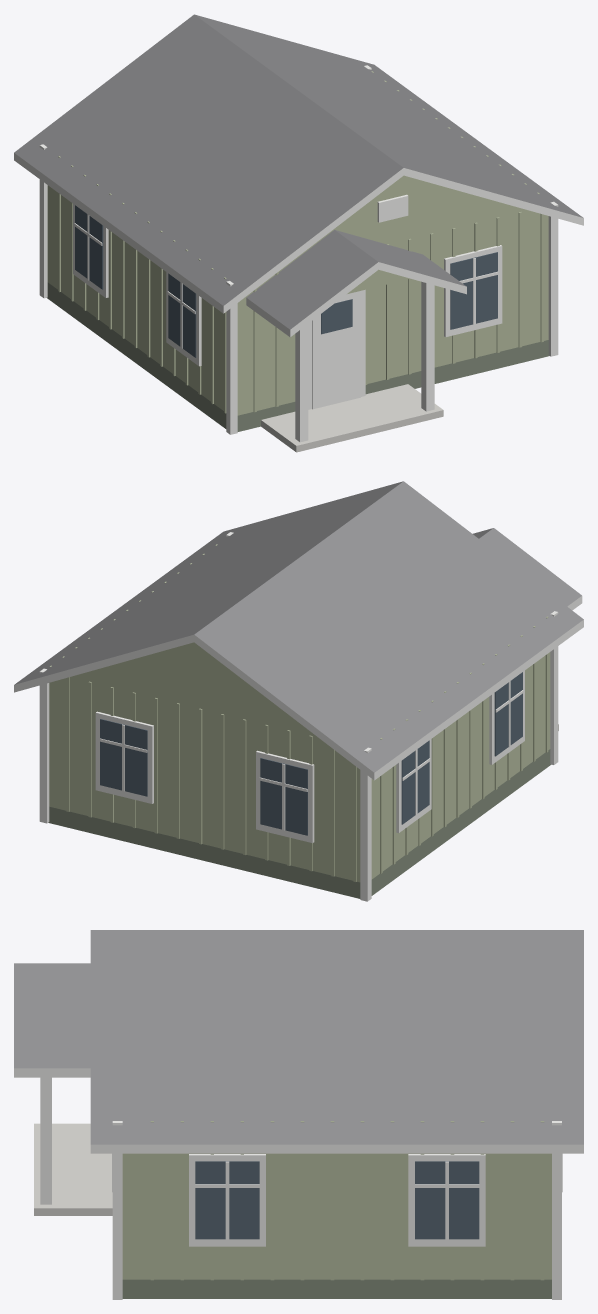
File: ripon-sage.glb
3 renders of one model, top to bottom at view 1: azimuth 30°, elevation 25°; view 2: azimuth 150°, elevation 25°; view 3: azimuth 270°, elevation 25°, orthographic. The views are drawn at different scales.
Visible parts, largest first — view 1: The Ripon (sage); view 2: The Ripon (sage); view 3: The Ripon (sage).
Part boxes in pixels (left/top/right/bottom): The Ripon (sage): left=14, top=14, right=583, bottom=452; The Ripon (sage): left=14, top=481, right=583, bottom=901; The Ripon (sage): left=14, top=930, right=583, bottom=1299.
Size of the model in its own units: 6.86 by 4.27 by 7.98.
